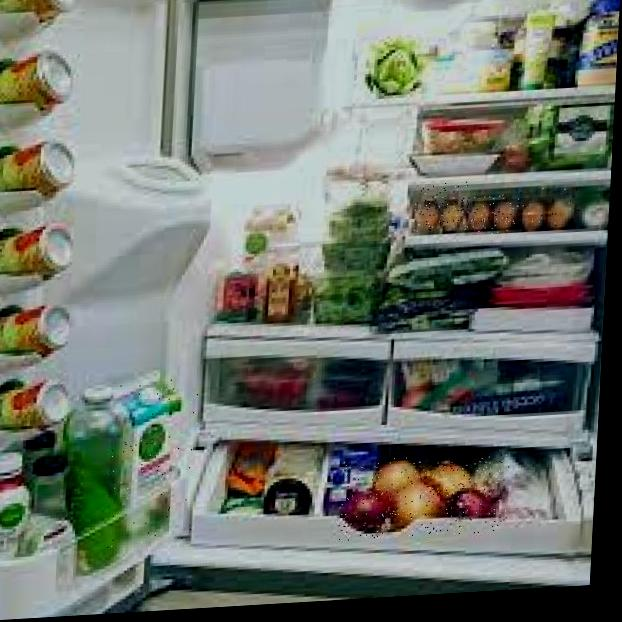eggs: (414, 181, 471, 233), (519, 186, 581, 232), (470, 192, 521, 235)
milk: (105, 376, 200, 552)
onion: (338, 451, 510, 541)
